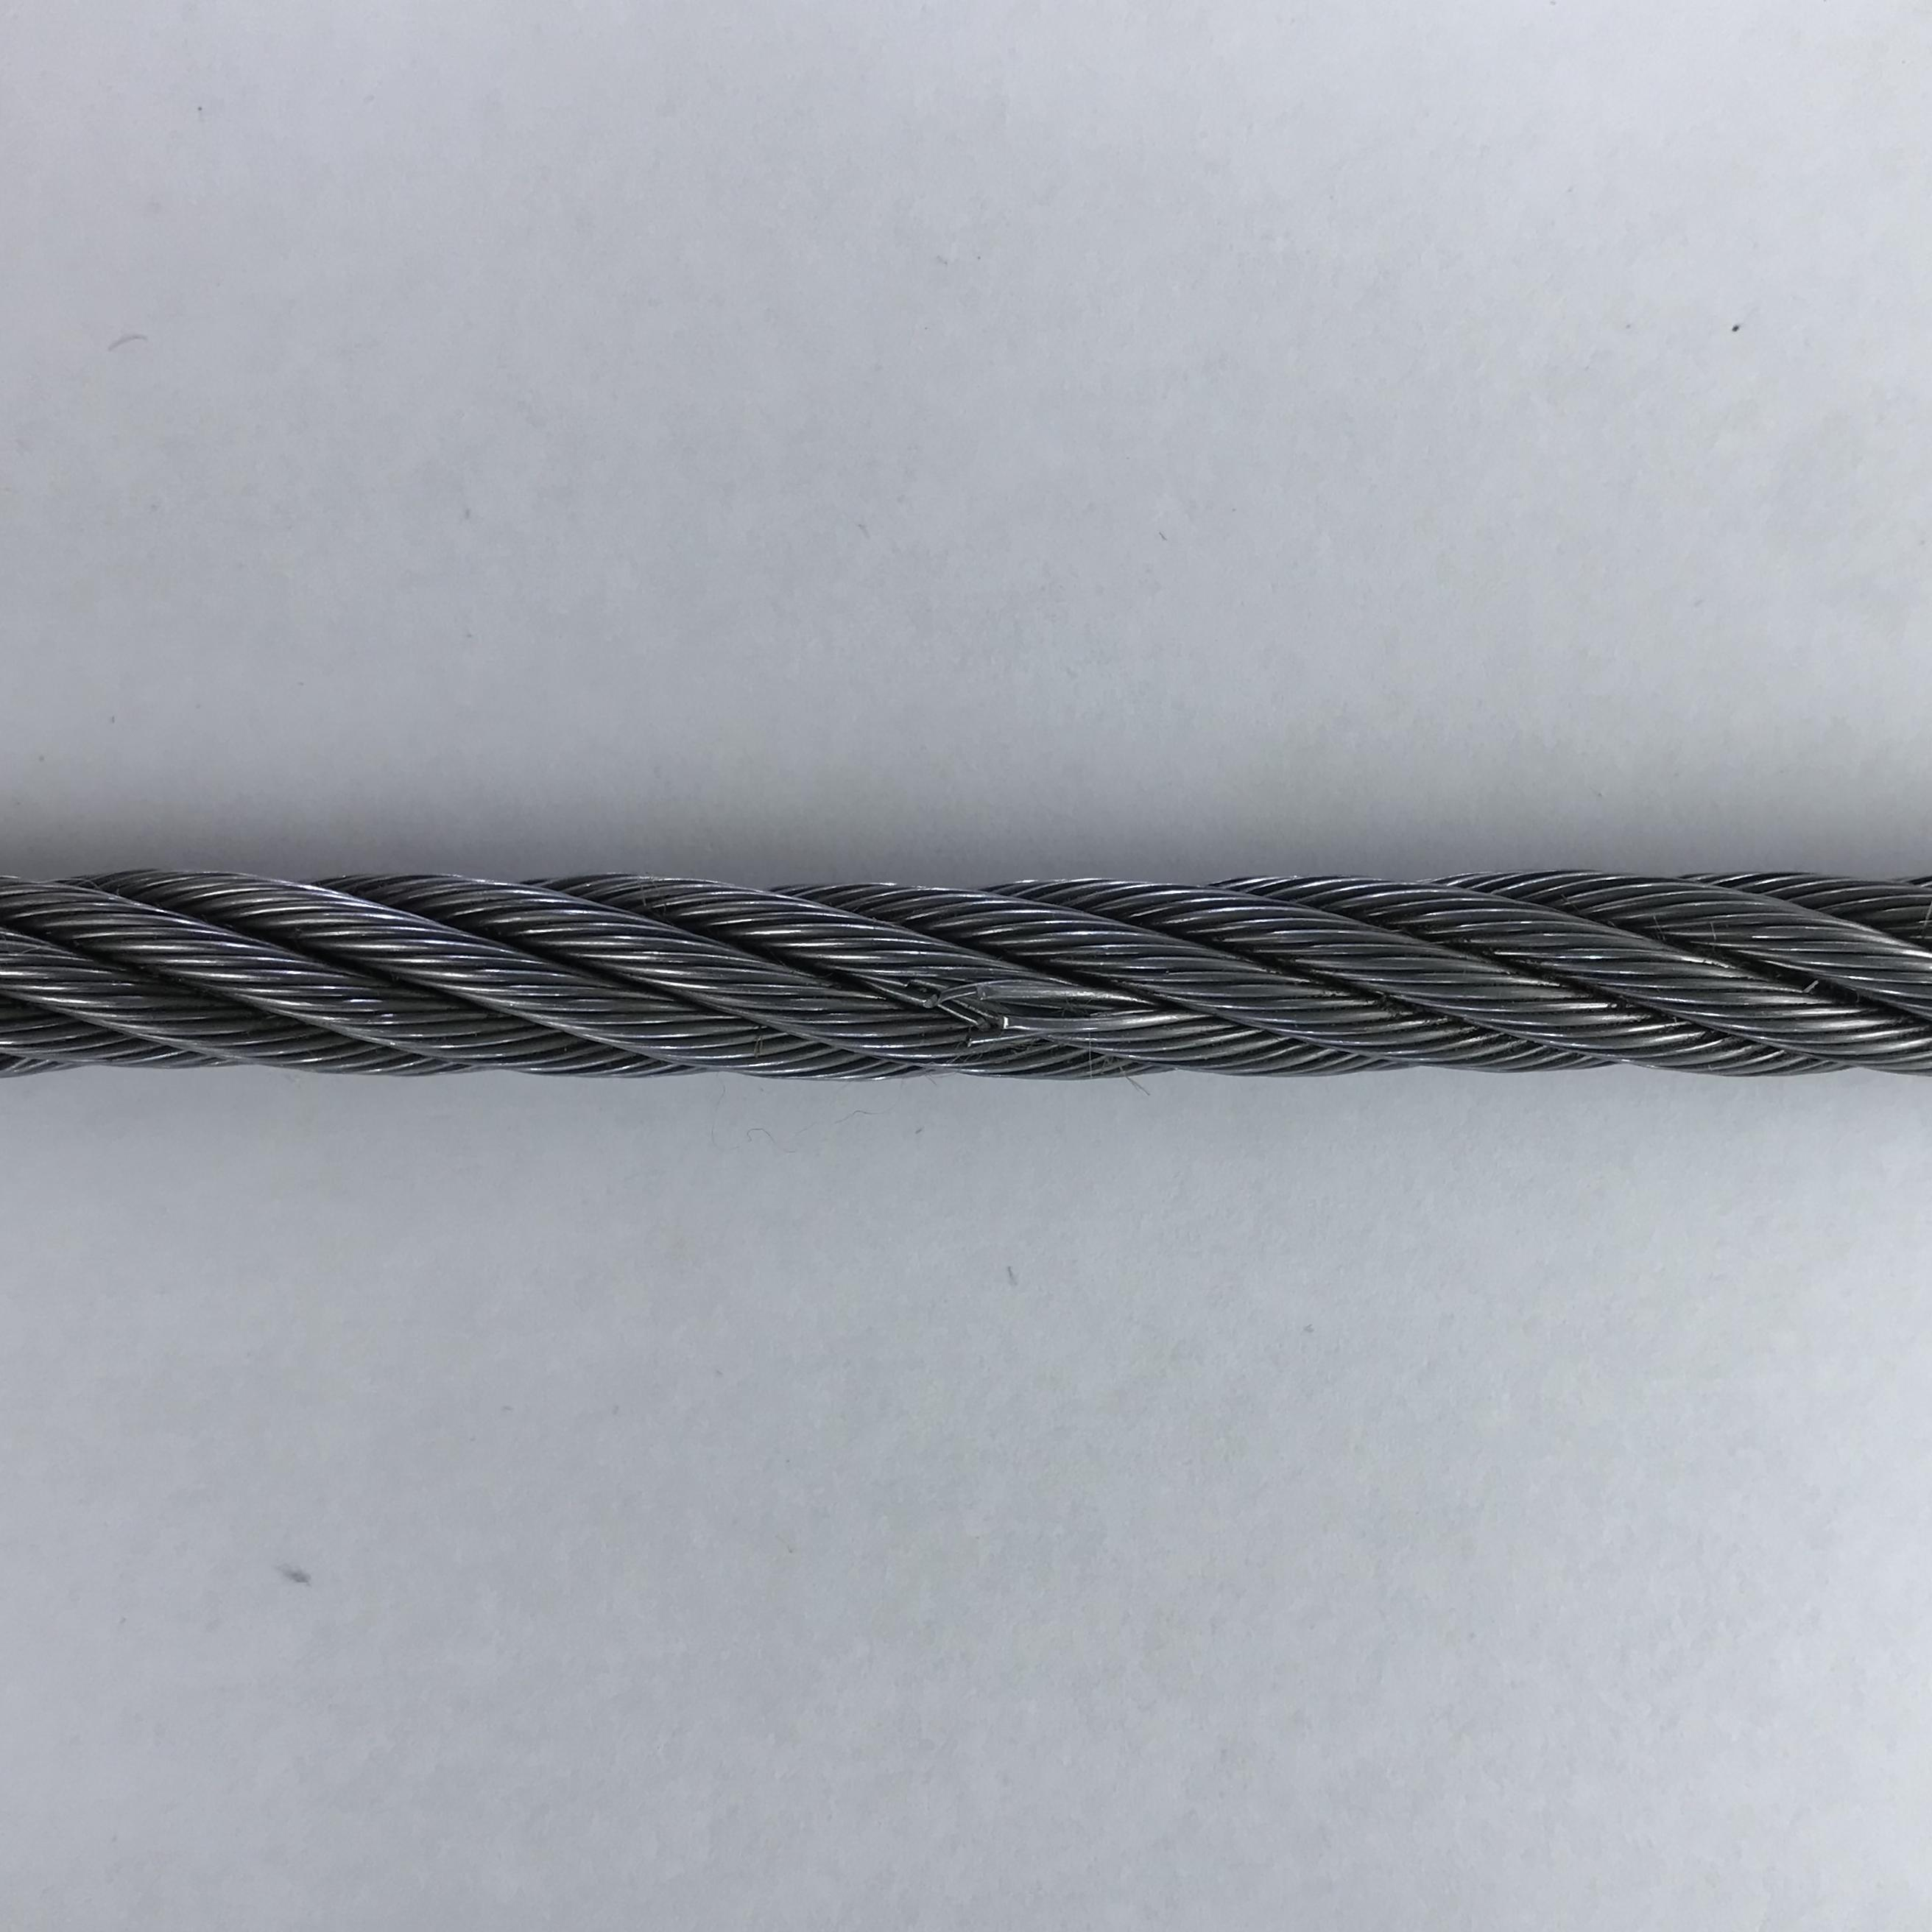break: (904, 971, 1037, 1047)
